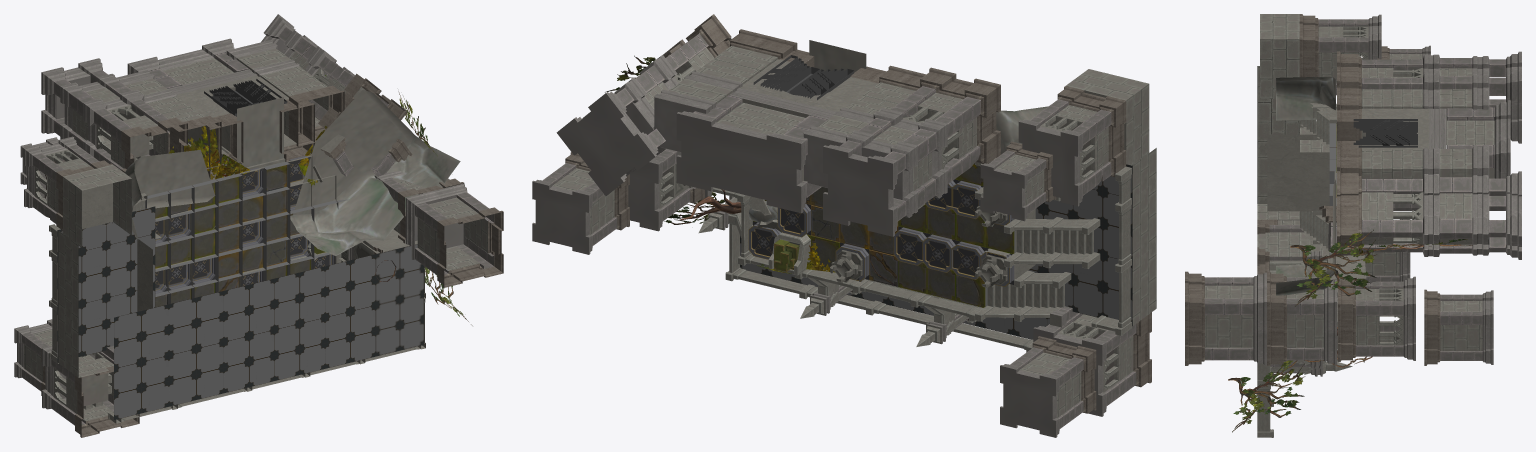
Rendered from BATTLE.fbx.
3 views of the same model, side by side, from view 1: azimuth 30°, elevation 25°; view 2: azimuth 150°, elevation 25°; view 3: azimuth 270°, elevation 25° (orthographic). The views are drawn at different scales.
Visible parts, largest first — view 1: S_Outworld_outside_12, S_playground, S_Outworld_outside_10, S_Outworld_building_42, S_Outworld_wall02_20, S_Outworld_building_35, S_Outworld_building_38, S_Outworld_building_43, S_Outworld_building_37, S_Outworld_building_36, S_Outworld_outside_09, S_Outworld_building_40 (+8 smaller); view 2: S_Outworld_building_42, S_playground, S_Outworld_building_39, S_Outworld_building_36, S_Outworld_outside_12, S_Outworld_building_40, S_Outworld_wall02_20, S_Outworld_building_44, S_Outworld_building_46, S_Outworld_building_37, S_Outworld_building_43, S_Outworld_building_38 (+19 smaller); view 3: S_Outworld_building_36, S_Outworld_wall02_20, S_Outworld_building_35, S_Outworld_building_42, S_Outworld_building_33, S_Outworld_building_34, S_Outworld_building_46, S_Outworld_zhiwu_8, S_Outworld_building_37, S_Outworld_building_40, S_Outworld_building_39, S_Outworld_building_41 (+18 smaller).
Part boxes in pixels (x1,y1,x2,y2): S_Outworld_outside_12: (57, 206, 423, 419); S_playground: (144, 155, 348, 307); S_Outworld_outside_10: (290, 90, 460, 255); S_Outworld_building_42: (41, 58, 187, 172); S_Outworld_wall02_20: (58, 164, 417, 377); S_Outworld_building_35: (405, 183, 503, 287); S_Outworld_building_38: (168, 69, 314, 180); S_Outworld_building_43: (42, 346, 139, 437); S_Outworld_building_37: (226, 40, 344, 146); S_Outworld_building_36: (261, 14, 407, 130); S_Outworld_outside_09: (125, 149, 215, 239); S_Outworld_building_40: (24, 136, 112, 233); S_Outworld_building_42: (823, 67, 1000, 236); S_playground: (748, 163, 1015, 307); S_Outworld_building_39: (676, 95, 827, 213); S_Outworld_building_36: (556, 14, 731, 195); S_Outworld_outside_12: (740, 164, 1132, 339); S_Outworld_building_40: (1018, 86, 1126, 206); S_Outworld_wall02_20: (1015, 69, 1156, 326); S_Outworld_building_44: (1000, 336, 1096, 437); S_Outworld_building_46: (532, 152, 629, 254); S_Outworld_building_37: (654, 29, 797, 152); S_Outworld_building_43: (1033, 312, 1151, 416); S_Outworld_building_38: (729, 40, 886, 119); S_Outworld_building_36: (1337, 171, 1521, 259); S_Outworld_wall02_20: (1257, 14, 1329, 256); S_Outworld_building_35: (1185, 271, 1266, 365); S_Outworld_building_42: (1337, 51, 1521, 143); S_Outworld_building_33: (1338, 276, 1415, 361); S_Outworld_building_34: (1267, 271, 1337, 365); S_Outworld_building_46: (1424, 289, 1493, 365); S_Outworld_zhiwu_8: (1228, 123, 1472, 432); S_Outworld_building_37: (1337, 143, 1489, 179); S_Outworld_building_40: (1299, 14, 1381, 95); S_Outworld_building_39: (1446, 100, 1510, 178); S_Outworld_building_41: (1337, 87, 1489, 144).
Size of what is drawn, in the model's own units: 0.1698 by 0.1008 by 0.1173.
Materials: 2 (2 with a texture image).
